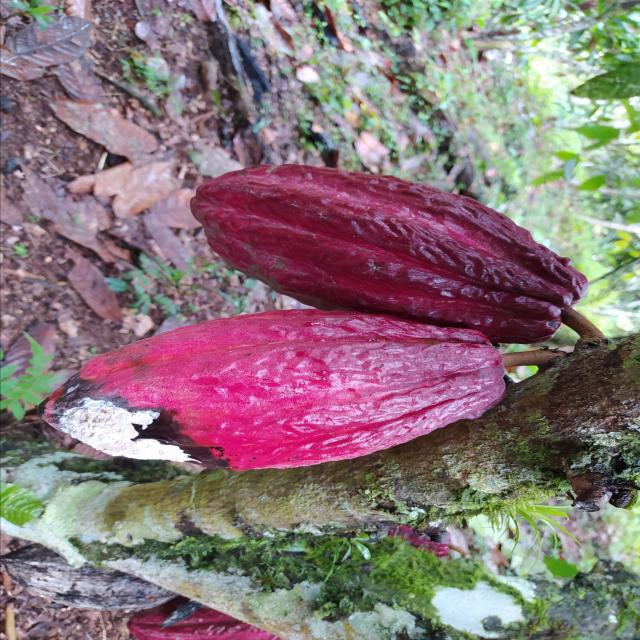Monilia: (40, 308, 525, 472)
Sana: (187, 164, 590, 344)
